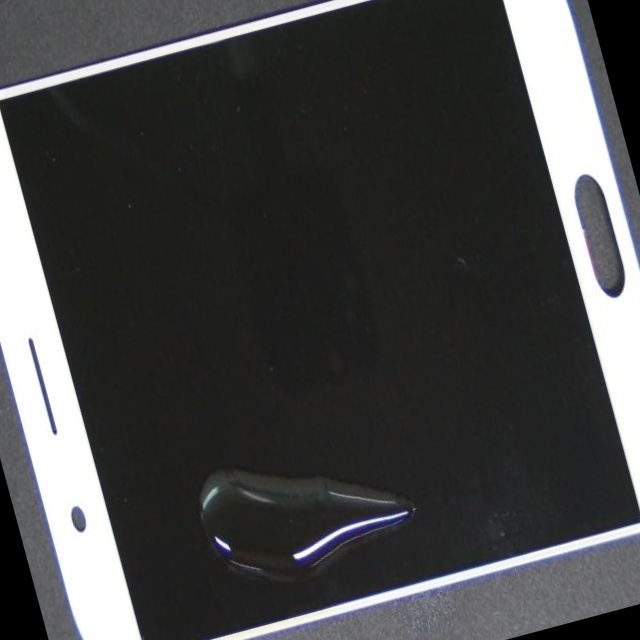oil: (32, 249, 517, 640)
